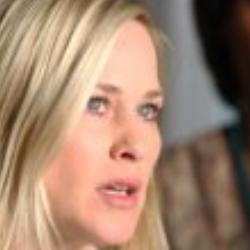face: (3, 2, 171, 249)
